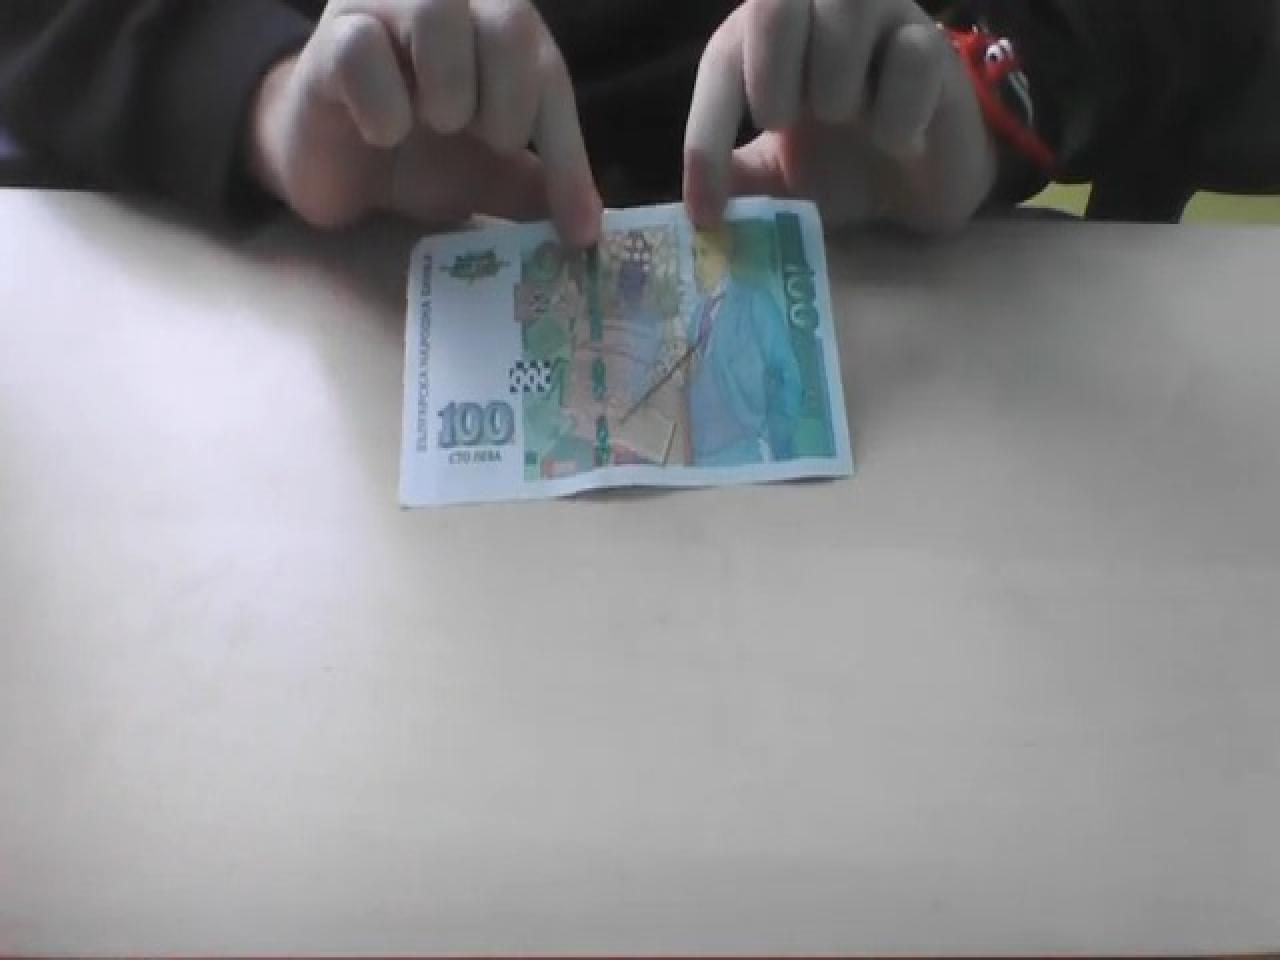100leva: (396, 200, 850, 514)
